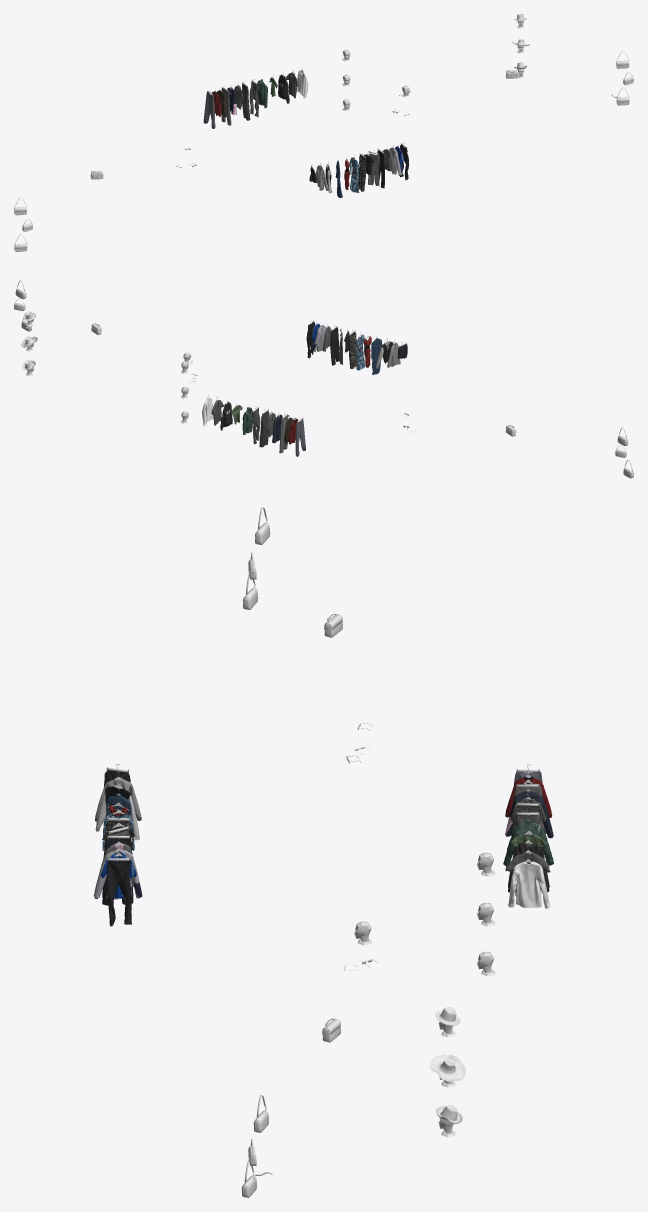
File: AccessuiaresClothesMarket.fbx
3 views of the same model, one above another, from view 1: azimuth 30°, elevation 25°; view 2: azimuth 150°, elevation 25°; view 3: azimuth 270°, elevation 25° (orthographic). The views are drawn at different scales.
Parts seen in each view (by area): view 1: Face5.004; view 2: Face5.004, clothing.047, clothing.022, clothing.035; view 3: Face5.004, clothing.025, pants_generic_LP001.
Part boxes in pixels (x1,y1,x2,y2): Face5.004: (342,20,524,111); Face5.004: (26,319,190,423); clothing.047: (330,327,339,365); clothing.022: (371,338,382,374); clothing.035: (295,419,305,456); Face5.004: (354,852,495,1136); clothing.025: (508,861,551,908); pants_generic_LP001: (106,860,131,926).
Size of the model in its own units: 2591 by 267 by 835.
3 materials, 1 textured.
